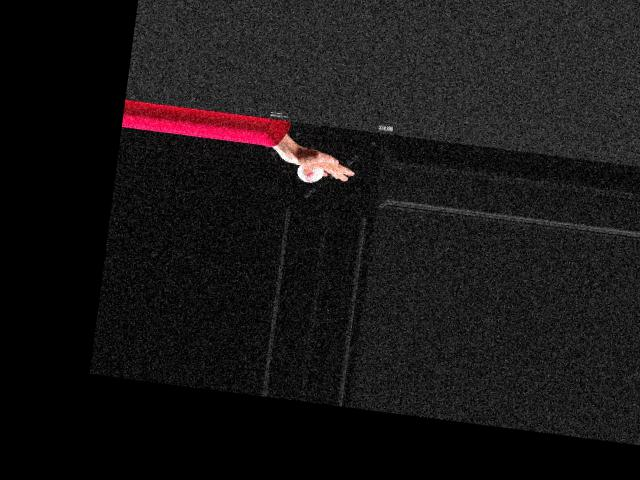egg: (295, 163, 323, 183)
